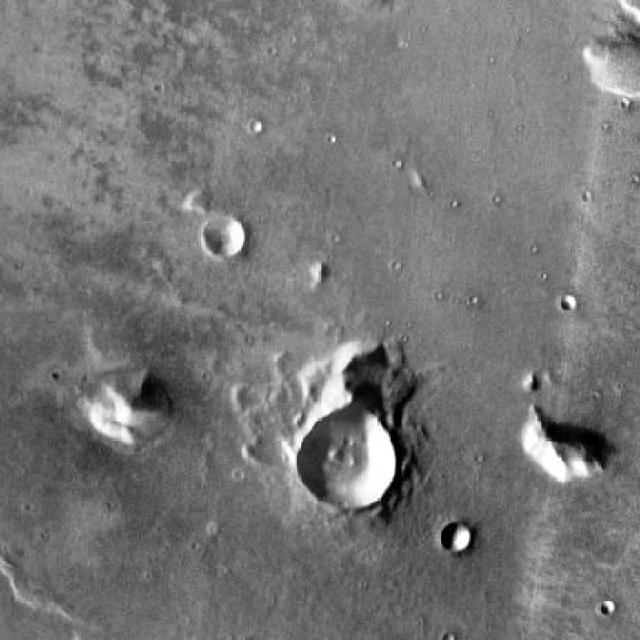crater: (304, 412, 399, 508), (203, 215, 245, 257), (443, 520, 475, 552), (561, 295, 579, 313), (602, 601, 618, 616)
